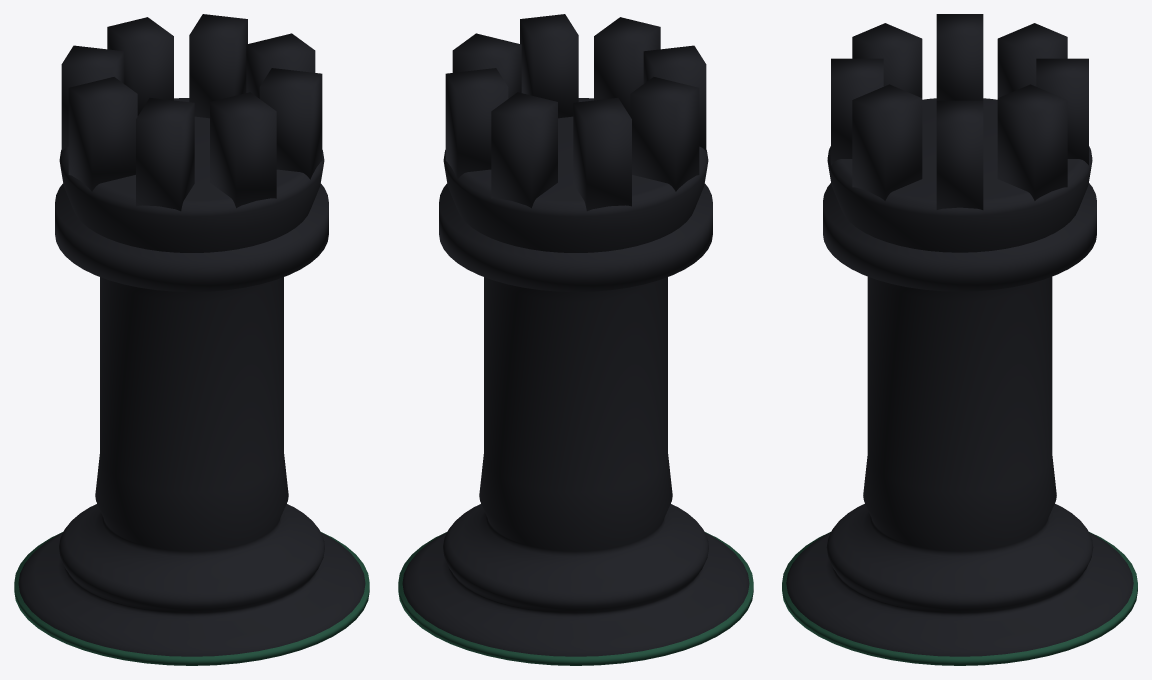
Rendered from chess-rook-black.glb.
3 renders of one model, left to right at view 1: azimuth 30°, elevation 25°; view 2: azimuth 150°, elevation 25°; view 3: azimuth 270°, elevation 25°, orthographic.
Visible parts, largest first — view 1: ChessRook; view 2: ChessRook; view 3: ChessRook.
Part boxes in pixels (x1,y1,x2,y2): ChessRook: (14,14,369,665); ChessRook: (398,14,753,665); ChessRook: (782,14,1137,665).
Bounding box in the file's own units: 0.6177 × 1 × 0.6177.
